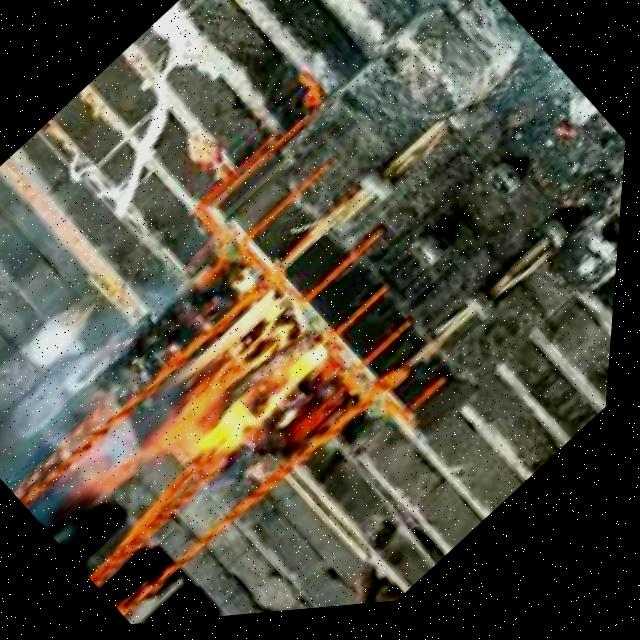Fire: (127, 279, 354, 506)
